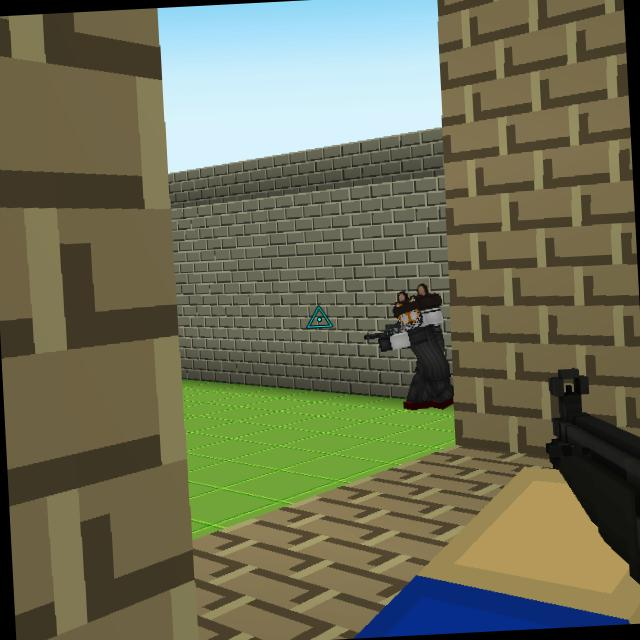enemy: (376, 282, 456, 412)
